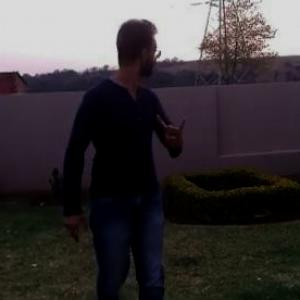takeoff-hand: (153, 106, 192, 158)
